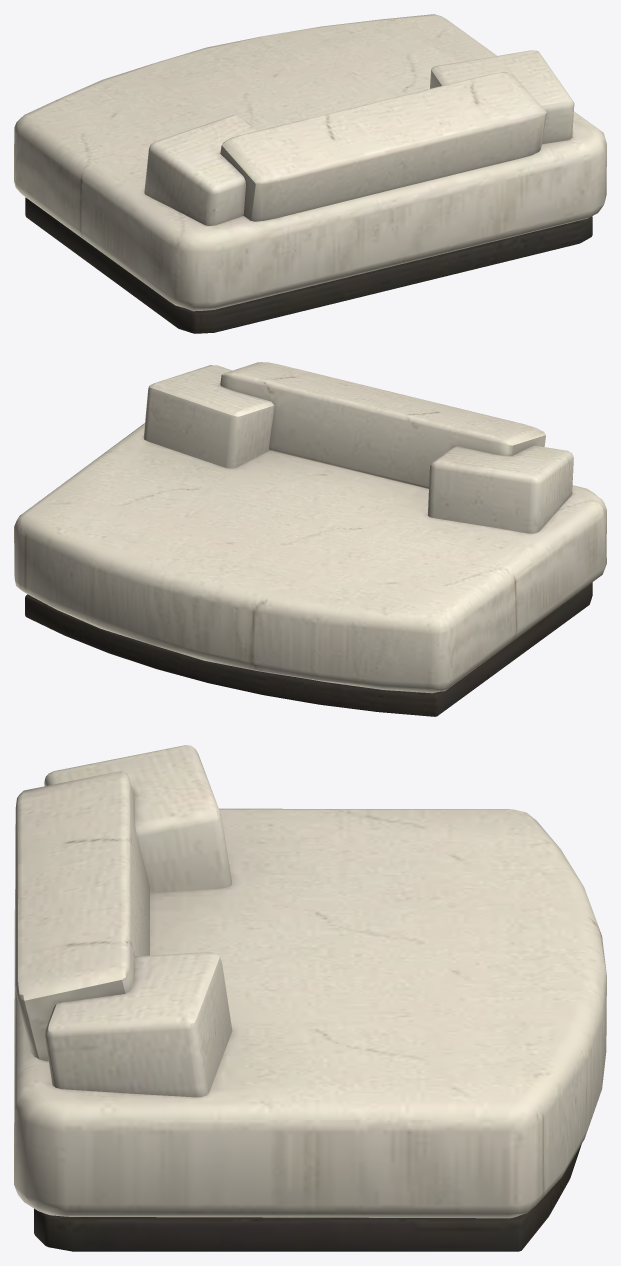
Rendered from cabana_daybed.glb.
The picture shows the model from 3 angles, top to bottom: view 1: azimuth 30°, elevation 25°; view 2: azimuth 150°, elevation 25°; view 3: azimuth 270°, elevation 25°; orthographic projection. The views are drawn at different scales.
Parts seen in each view (by area): view 1: cabana_daybed; view 2: cabana_daybed; view 3: cabana_daybed.
Boxes of the visible parts, x1,y1,x2,y2 form: cabana_daybed: (14, 14, 606, 333); cabana_daybed: (14, 362, 606, 716); cabana_daybed: (14, 745, 606, 1251).
Bounding box in the file's own units: 1.88 × 0.6676 × 1.51.
Materials: 1 (1 with a texture image).
